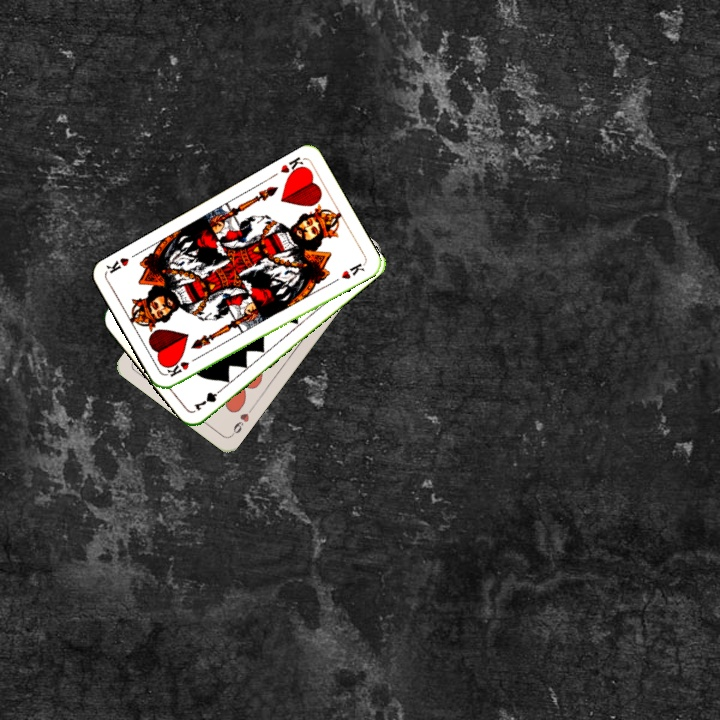G7: (190, 383, 227, 413)
H9: (227, 403, 256, 438)
HK: (163, 352, 201, 380), (276, 153, 309, 180)
